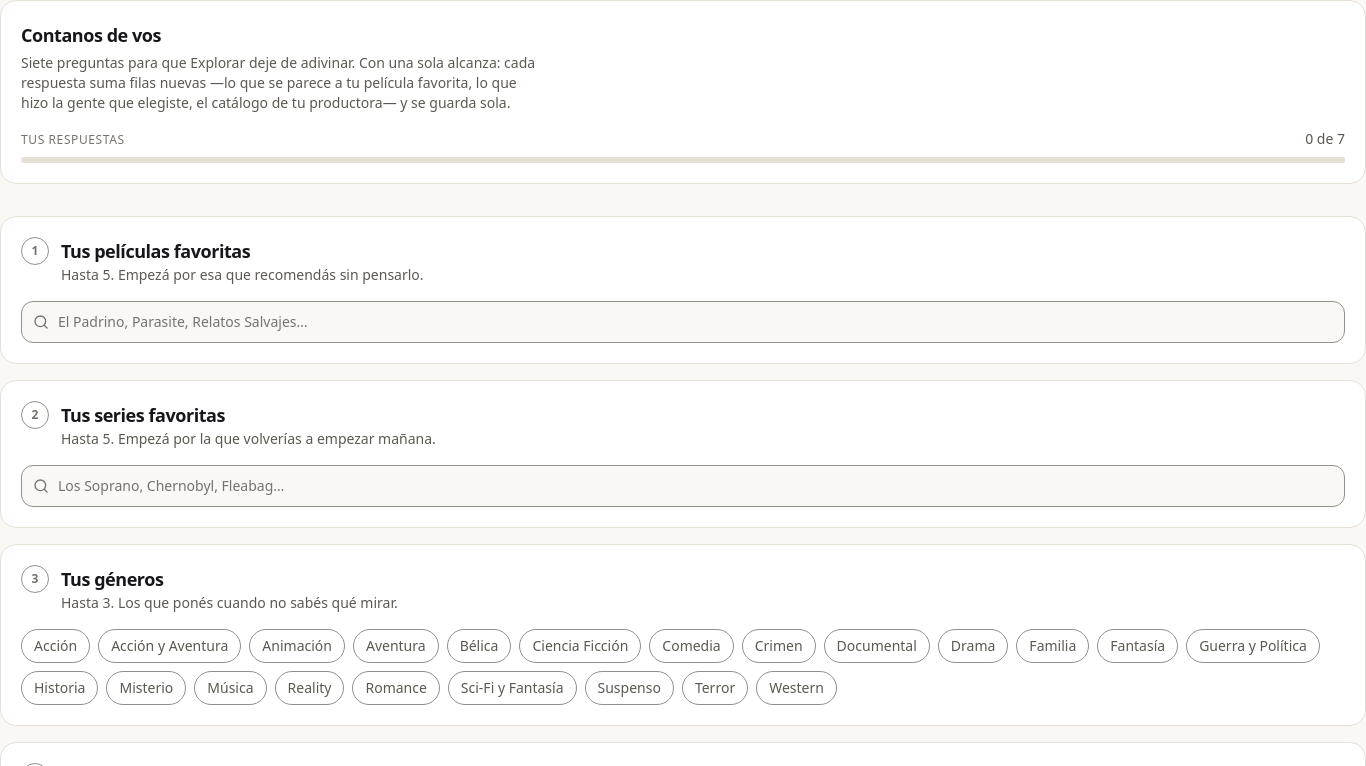
Test: Contanos de vos › no deja elegir un cuarto género, pero sí sacar los que ya están
Click the button "Terror". click: (715, 688)
box: [682,671,748,705]
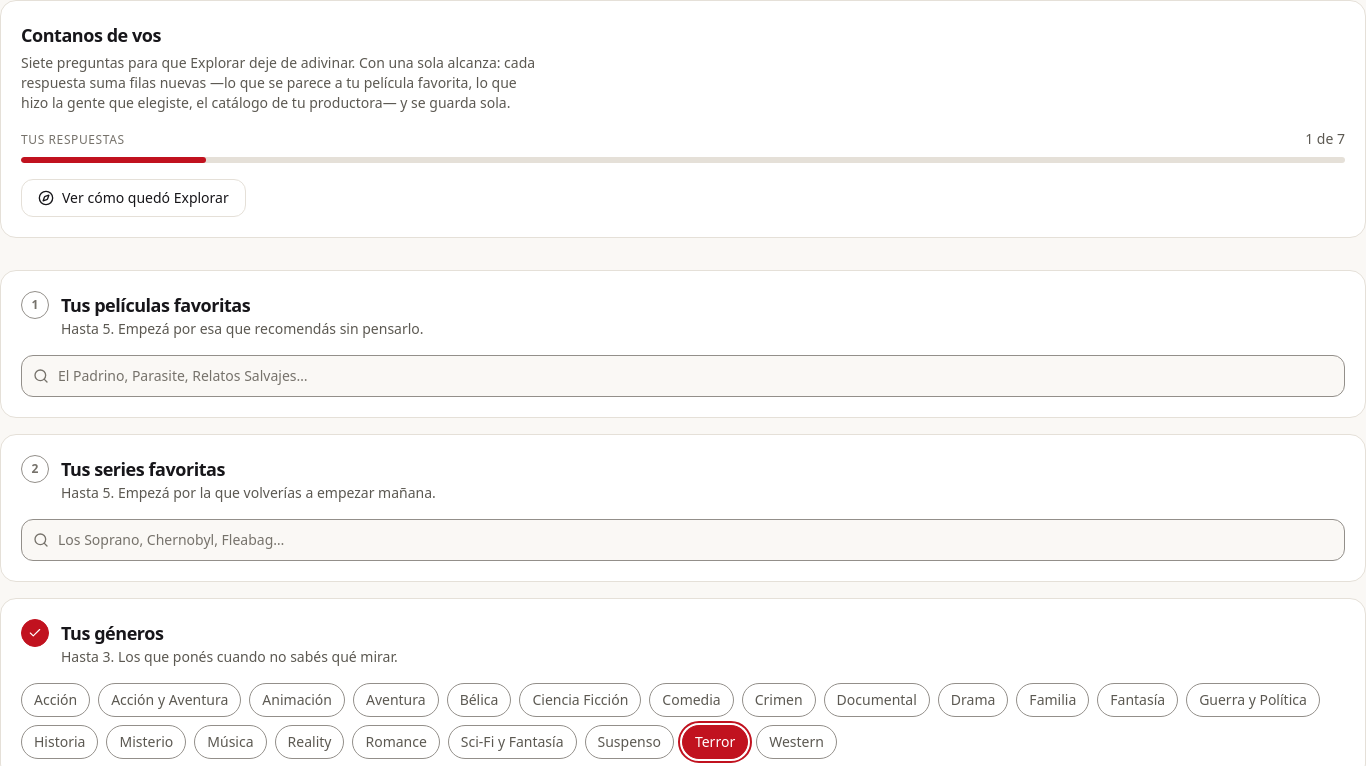
Click the button "Comedia". click: (692, 700)
box: [649,683,734,717]
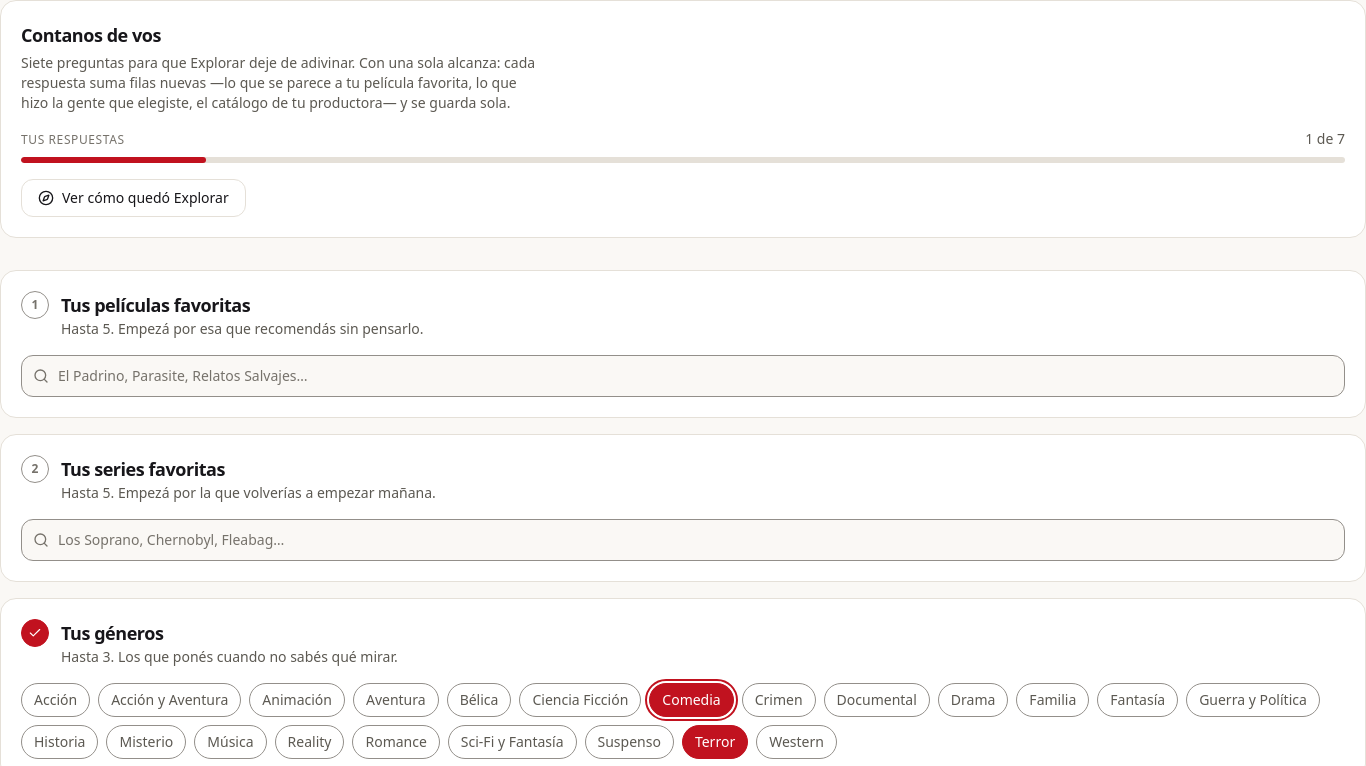
Click the button "Drama". click: (973, 700)
box: [938,683,1008,717]
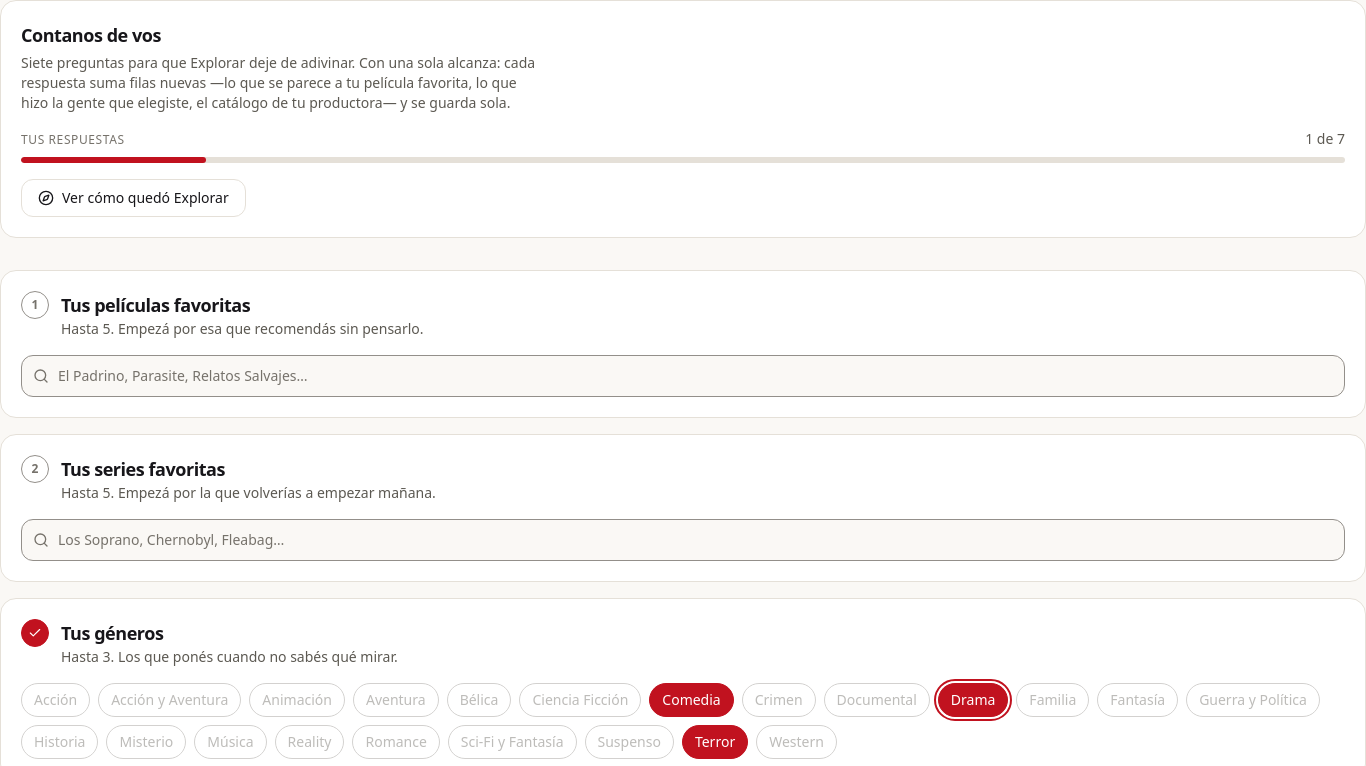
Expected: the button "Terror" is enabled, [682,725,748,759]
Result: the button "Western" is disabled at [756,725,837,759]
